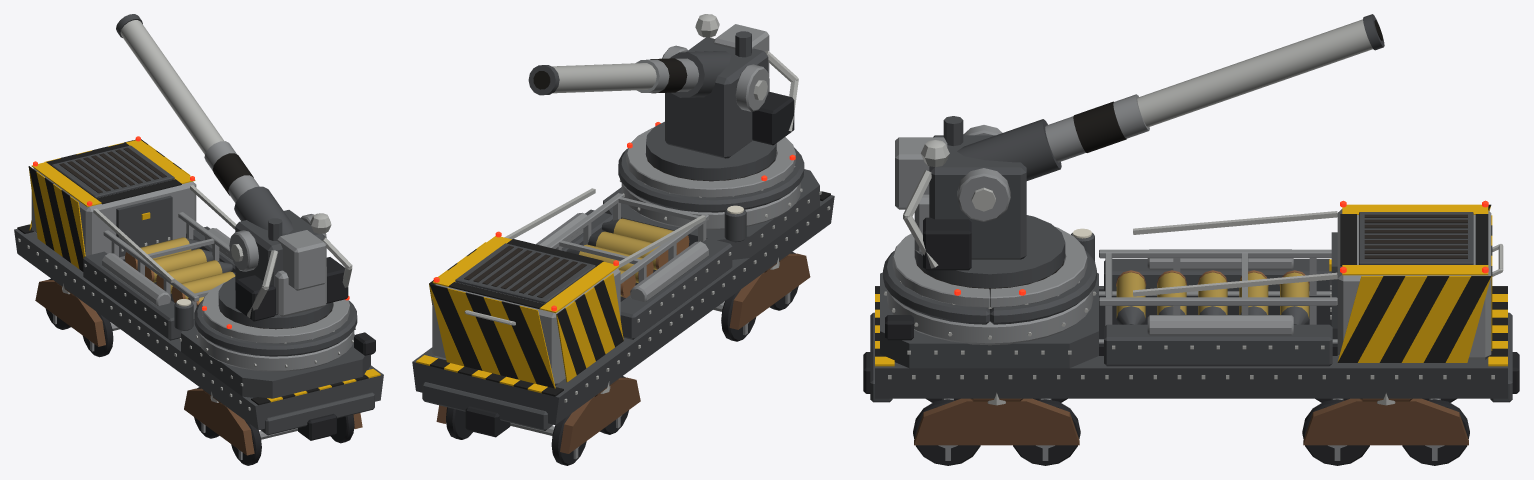
Rendered from artillery-wagon.glb.
3 renders of one model, left to right at view 1: azimuth 30°, elevation 25°; view 2: azimuth 150°, elevation 25°; view 3: azimuth 270°, elevation 25°, orthographic. The views are drawn at different scales.
Parts seen in each view (by area): view 1: body, anim_turret_head, anim_wheel_rail, anim_wheel_rail.002; view 2: body, anim_turret_head, anim_wheel_rail.003, anim_wheel_rail.001; view 3: body, anim_turret_head, anim_wheel_rail.001, anim_wheel_rail.002, anim_wheel_rail, anim_wheel_rail.003.
Part boxes in pixels (<box>): body: <box>14,136,383,455</box>; anim_turret_head: <box>116,14,352,343</box>; anim_wheel_rail: <box>231,414,354,465</box>; anim_wheel_rail.002: <box>83,311,119,357</box>; body: <box>412,147,834,453</box>; anim_turret_head: <box>528,14,798,197</box>; anim_wheel_rail.003: <box>446,407,586,465</box>; anim_wheel_rail.001: <box>713,289,756,341</box>; body: <box>863,200,1519,445</box>; anim_turret_head: <box>892,14,1384,307</box>; anim_wheel_rail.001: <box>1013,398,1080,465</box>; anim_wheel_rail.002: <box>1302,398,1369,465</box>; anim_wheel_rail: <box>913,398,980,465</box>; anim_wheel_rail.003: <box>1402,398,1469,465</box>.
Bounding box in the file's own units: 2.2 × 4.75 × 6.74.
